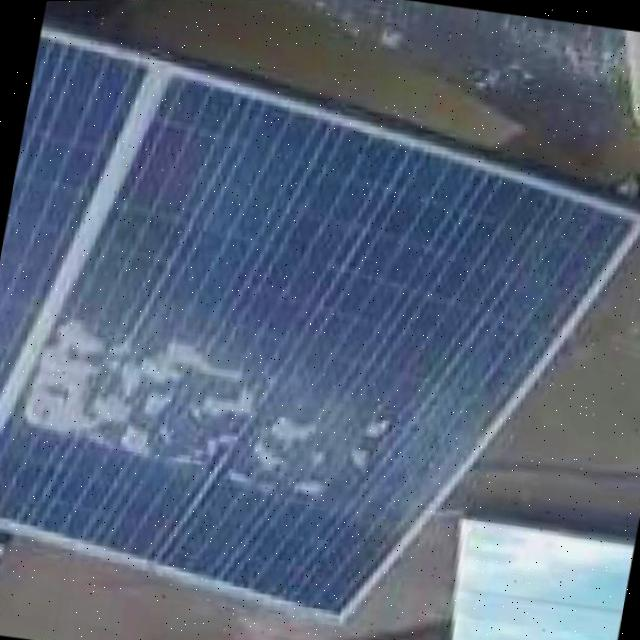Anomaly Solar Panel: (0, 20, 637, 640)
Snow: (13, 299, 410, 529)
